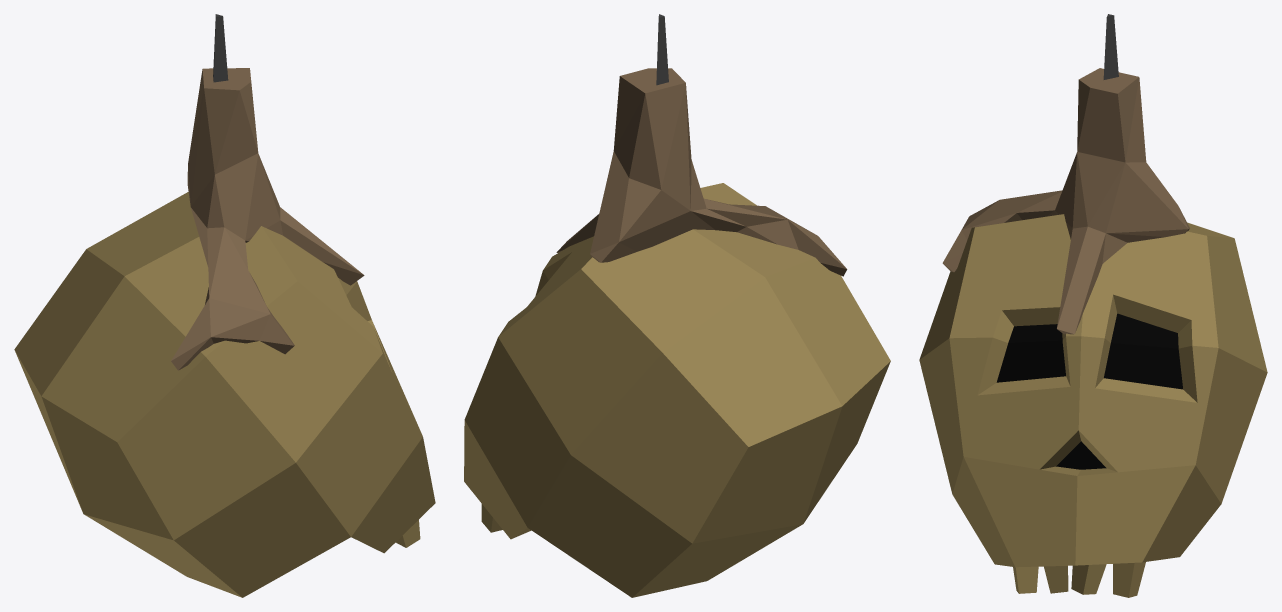
Rendered from SkullCandle.fbx.
3 renders of one model, left to right at view 1: azimuth 30°, elevation 25°; view 2: azimuth 150°, elevation 25°; view 3: azimuth 270°, elevation 25°, orthographic. The views are drawn at different scales.
Parts seen in each view (by area): view 1: SkullCandle; view 2: SkullCandle; view 3: SkullCandle.
Part boxes in pixels (bbox=[...]): SkullCandle: bbox=[14, 14, 435, 597]; SkullCandle: bbox=[464, 14, 890, 597]; SkullCandle: bbox=[919, 14, 1267, 597].
Size of the model in its own units: 0.3324 by 0.2906 by 0.4834.
